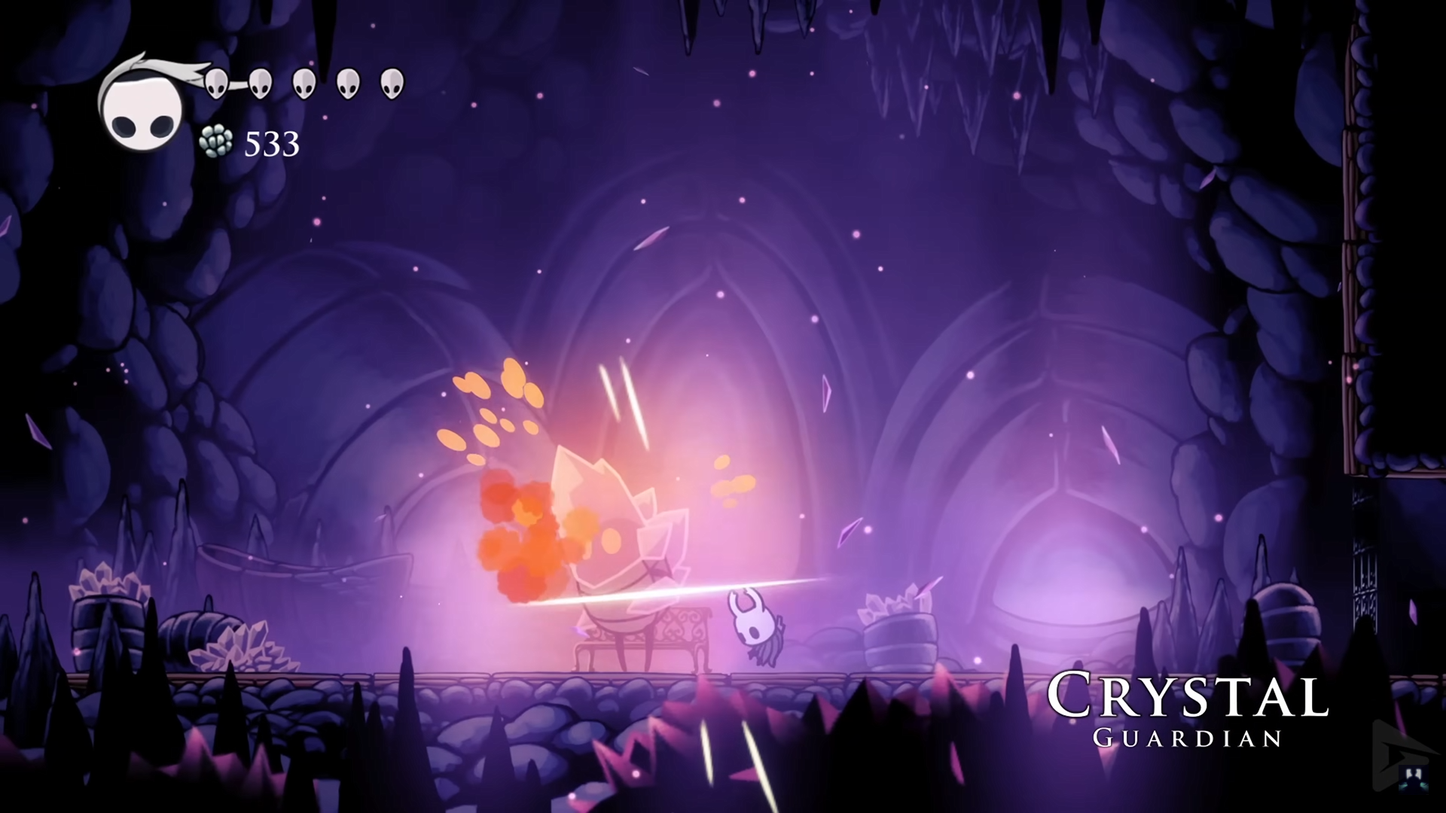HK: (728, 577, 792, 674)
